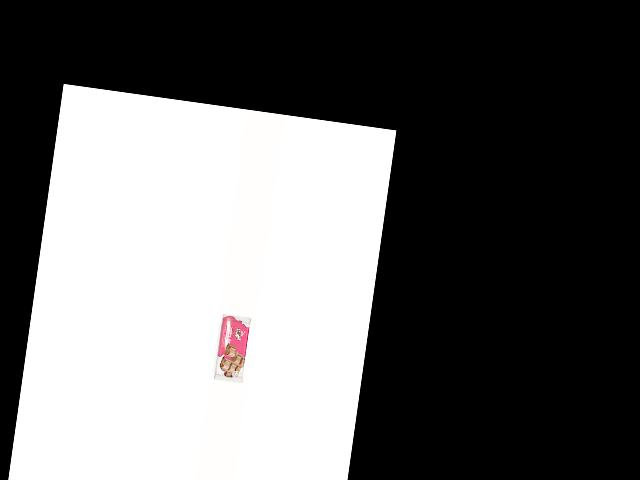chocolate: (198, 300, 249, 383)
